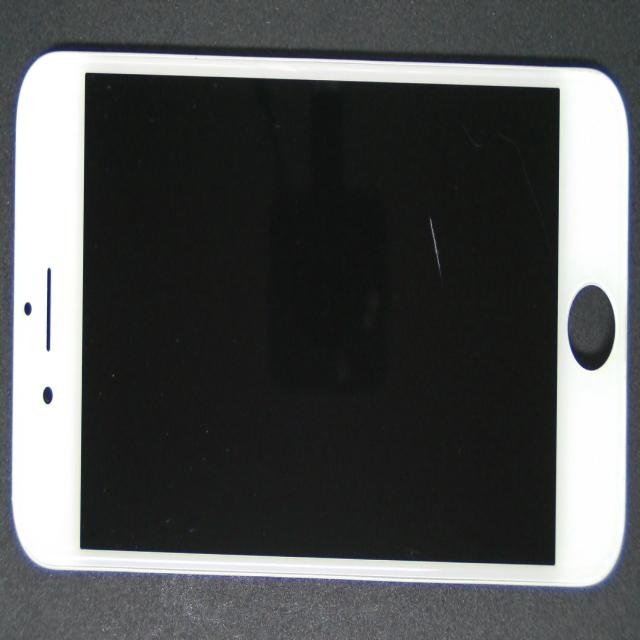scratch: (197, 40, 640, 340)
